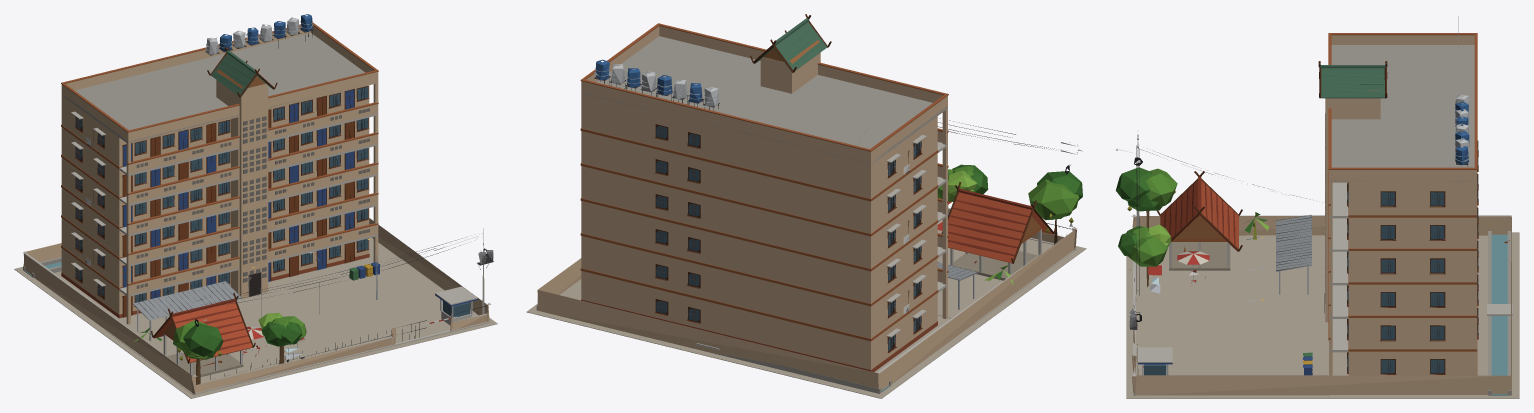
The model's file is home_5.glb.
The picture shows the model from 3 angles, left to right: view 1: azimuth 30°, elevation 25°; view 2: azimuth 150°, elevation 25°; view 3: azimuth 270°, elevation 25°; orthographic projection. The views are drawn at different scales.
Parts seen in each view (by area): view 1: body, windows; view 2: body, windows; view 3: body, windows.
Boxes of the visible parts, x1,y1,x2,y2 form: body: [14, 14, 497, 398]; windows: [76, 87, 469, 317]; body: [526, 14, 1086, 398]; windows: [656, 126, 921, 350]; body: [1115, 16, 1519, 398]; windows: [1144, 173, 1477, 375].
Bounding box in the file's own units: 32.15 × 22.78 × 32.78.
